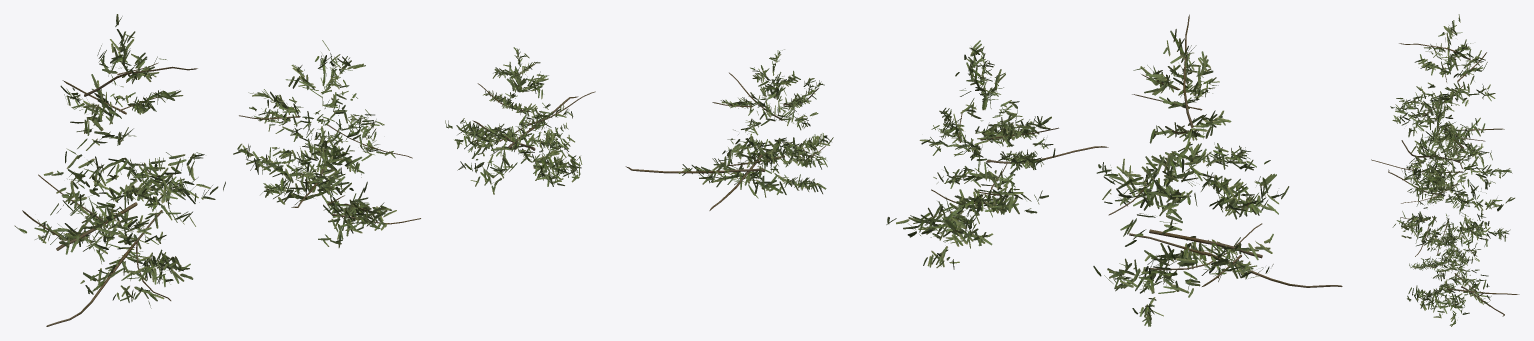
File: fir_sapling_leaf.glb
3 renders of one model, left to right at view 1: azimuth 30°, elevation 25°; view 2: azimuth 150°, elevation 25°; view 3: azimuth 270°, elevation 25°, orthographic. The views are drawn at different scales.
Visible parts, largest first — view 1: fir_sapling_a, fir_sapling_b, fir_sapling_c; view 2: fir_sapling_a, fir_sapling_b, fir_sapling_c; view 3: fir_sapling_a, fir_sapling_b, fir_sapling_c.
Part boxes in pixels (x1,y1,x2,y2): fir_sapling_a: (14,14,225,326); fir_sapling_b: (233,40,420,247); fir_sapling_c: (445,47,595,194); fir_sapling_a: (1093,14,1342,326); fir_sapling_b: (886,40,1108,269); fir_sapling_c: (625,49,833,210); fir_sapling_a: (1371,14,1512,203); fir_sapling_b: (1388,124,1514,262); fir_sapling_c: (1407,214,1519,326).
Bounding box in the file's own units: 3.09 × 1.29 × 1.01.
1 material, 1 textured.
